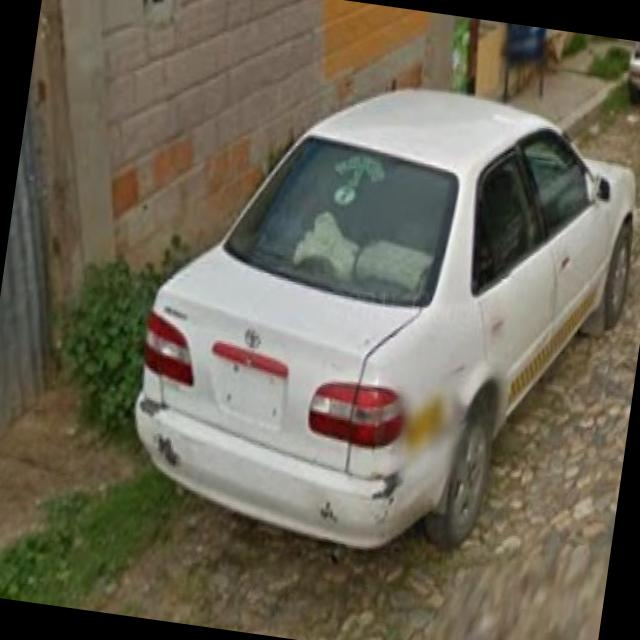car: (125, 56, 640, 587)
